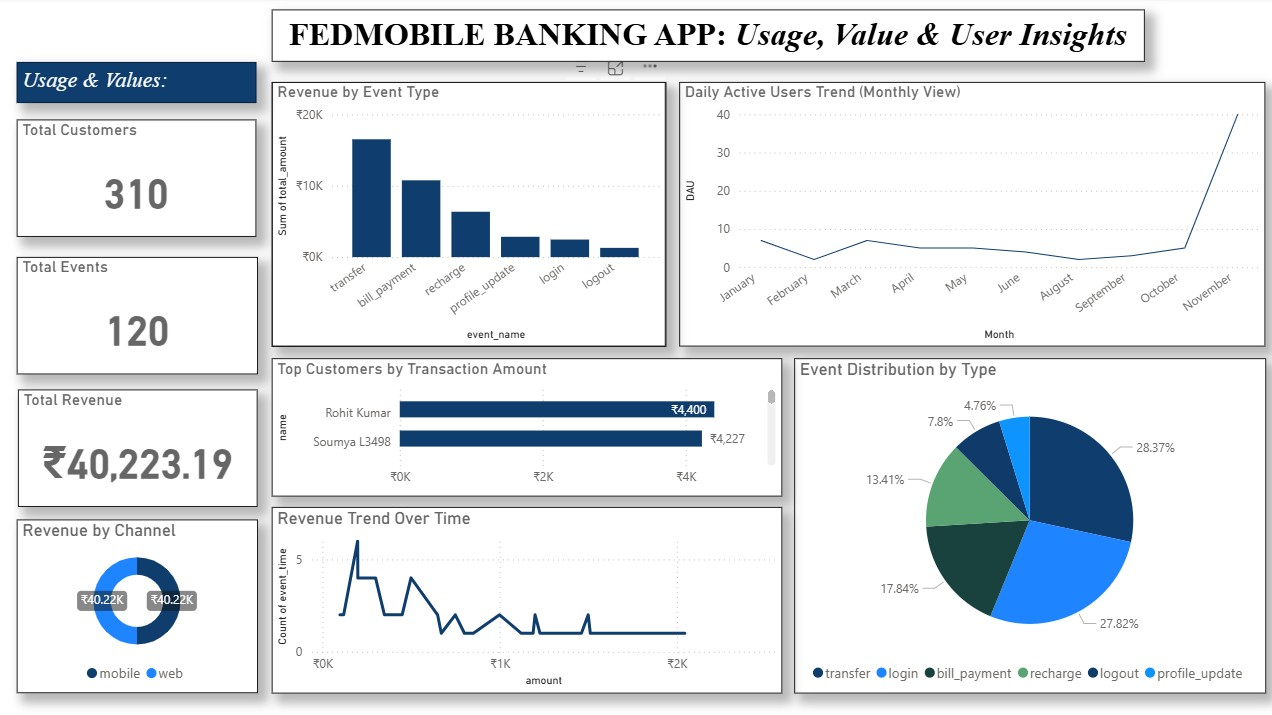

This screenshot's page, from the dashboard's own definition file:
{"tool":"powerbi","page":{"name":"Usage & Value","canvas":[1280,720],"ordinal":0},"visuals":[{"type":"card","title":"Total Customers","fields":{"Values":["CountNonNull(customers.customer_id)"]},"box":[23.3,122.1,238.8,116.6],"z":0},{"type":"card","title":"Total Events","fields":{"Values":["Sum(v_daily_events.events_count)"]},"box":[23.3,259.3,240.1,116.6],"z":1000},{"type":"card","title":"Total Revenue","fields":{"Values":["Sum(v_daily_events.total_amount)"]},"box":[24.7,391.1,238.8,116.6],"z":2000},{"type":"lineChart","title":"Daily Active Users Trend (Monthly View)","fields":{"Category":["v_daily_events.event_date.Variation.Date Hierarchy.Month","v_daily_events.event_date.Variation.Date Hierarchy.Day"],"Y":["v_daily_events.DAU"]},"box":[683.4,85.1,583.2,263.5],"z":3000},{"type":"pieChart","title":"Event Distribution by Type","fields":{"Category":["app_usage.event_name"],"Y":["Sum(app_usage.event_id)"]},"box":[797.3,359.5,469.3,333.4],"z":4000},{"type":"clusteredColumnChart","title":"Revenue by Event Type","fields":{"Category":["v_daily_events.event_name"],"Y":["Sum(v_daily_events.total_amount)"]},"box":[277.2,85.1,392.5,263.5],"z":5000},{"type":"donutChart","title":"Revenue by Channel","fields":{"Y":["Sum(v_daily_events.total_amount)"],"Category":["app_usage.channel"]},"box":[23.3,520.1,240.1,172.9],"z":6000},{"type":"clusteredBarChart","title":"Top Customers by Transaction Amount","fields":{"Y":["Sum(app_usage.amount)"],"Category":["customers.name"]},"box":[277.2,359.5,507.7,137.2],"z":7000},{"type":"lineChart","title":"Revenue Trend Over Time","fields":{"Category":["app_usage.amount"],"Y":["CountNonNull(app_usage.event_time)"]},"box":[277.2,507.7,507.7,185.2],"z":8000},{"type":"textbox","box":[277.2,12.3,868.6,52.1],"z":9000},{"type":"textbox","box":[23.3,64.5,238.8,41.2],"z":10000}]}

Visuals, with their boxes in screenshot pixels (x1, y1, x2, y2), scaled from the page's 1280x720 canvas onto the 1272x715 screenshot:
"Total Customers" card: box(23, 121, 260, 237)
"Total Events" card: box(23, 257, 262, 373)
"Total Revenue" card: box(25, 388, 262, 504)
"Daily Active Users Trend (Monthly View)" lineChart: box(679, 85, 1259, 346)
"Event Distribution by Type" pieChart: box(792, 357, 1259, 688)
"Revenue by Event Type" clusteredColumnChart: box(275, 85, 666, 346)
"Revenue by Channel" donutChart: box(23, 516, 262, 688)
"Top Customers by Transaction Amount" clusteredBarChart: box(275, 357, 780, 493)
"Revenue Trend Over Time" lineChart: box(275, 504, 780, 688)
textbox: box(275, 12, 1139, 64)
textbox: box(23, 64, 260, 105)
